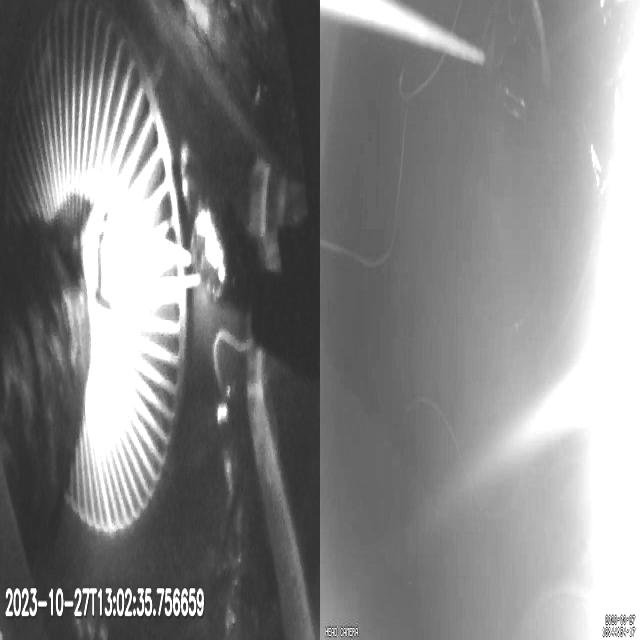head: (84, 200, 145, 315)
